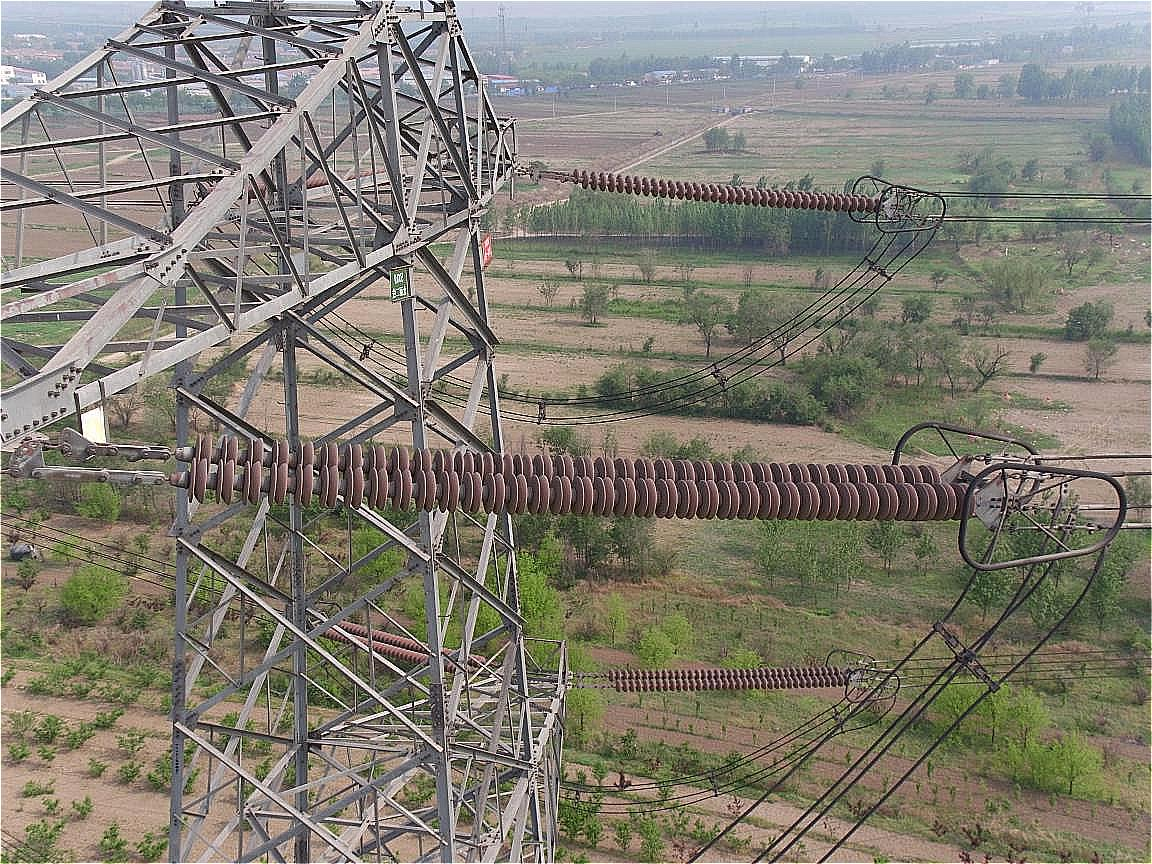insultor1: (567, 163, 893, 226), (601, 661, 859, 702)
insultor2: (169, 417, 1000, 541)
